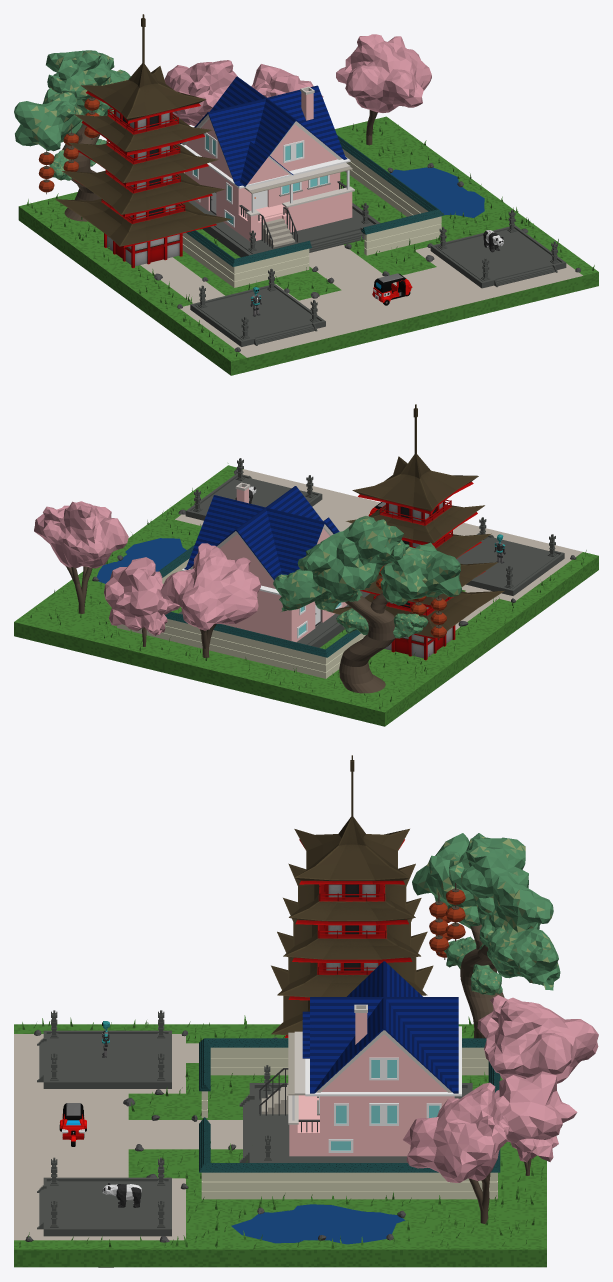
3 views of the same model, one above another, from view 1: azimuth 30°, elevation 25°; view 2: azimuth 150°, elevation 25°; view 3: azimuth 270°, elevation 25° (orthographic). The views are drawn at different scales.
Visible parts, largest first — view 1: Cube.005, Cube.313, VEHICLES_TUC_TUC; view 2: Cube.005, Cube.313; view 3: Cube.005, Cube.313, VEHICLES_TUC_TUC, ANIMAL_PANDA.
Boxes of the visible parts, x1,y1,x2,y2 form: Cube.005: [14, 14, 598, 375]; Cube.313: [179, 76, 354, 248]; VEHICLES_TUC_TUC: [372, 273, 412, 305]; Cube.005: [14, 404, 598, 726]; Cube.313: [181, 482, 347, 642]; Cube.005: [14, 755, 598, 1267]; Cube.313: [259, 961, 461, 1156]; VEHICLES_TUC_TUC: [59, 1103, 86, 1146]; ANIMAL_PANDA: [102, 1183, 141, 1207].
Bounding box in the file's own units: 4528 × 2663 × 4389.
41 materials, 5 textured.
